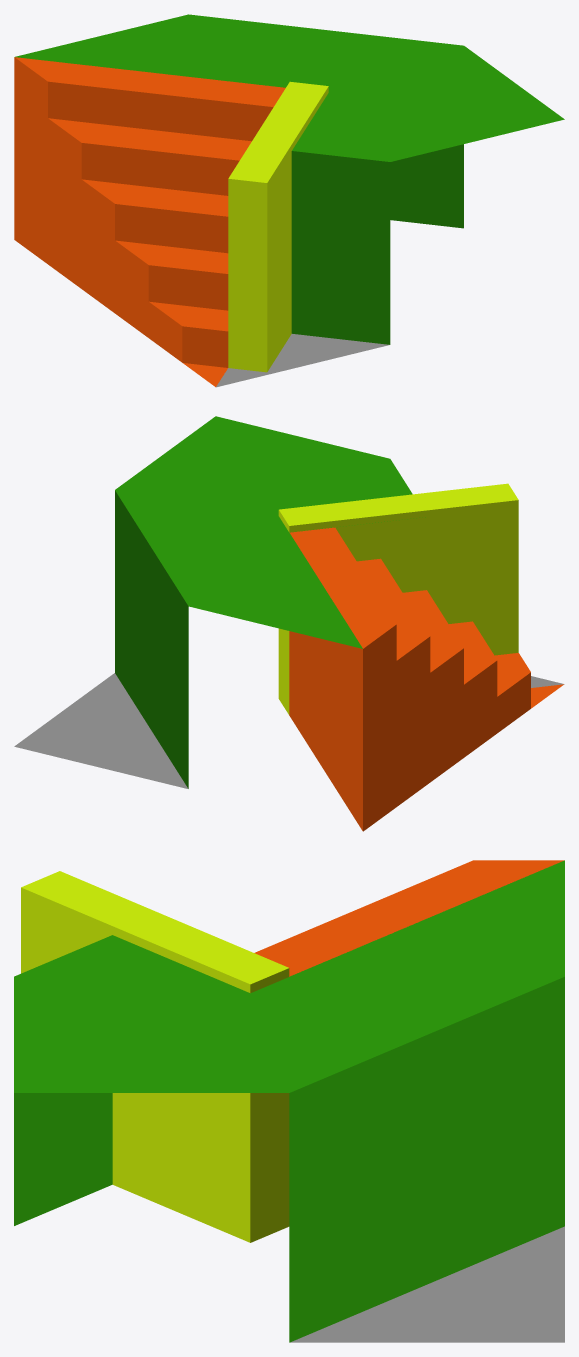
3 views of the same model, one above another, from view 1: azimuth 30°, elevation 25°; view 2: azimuth 150°, elevation 25°; view 3: azimuth 270°, elevation 25° (orthographic). The views are drawn at different scales.
Visible parts, largest first — view 1: T_a_1_1; view 2: T_a_1_1; view 3: T_a_1_1.
Part boxes in pixels (x1,y1,x2,y2): T_a_1_1: [14, 14, 564, 387]; T_a_1_1: [14, 416, 564, 831]; T_a_1_1: [14, 860, 564, 1342].
Bounding box in the file's own units: 99.79 × 51.68 × 99.81.
